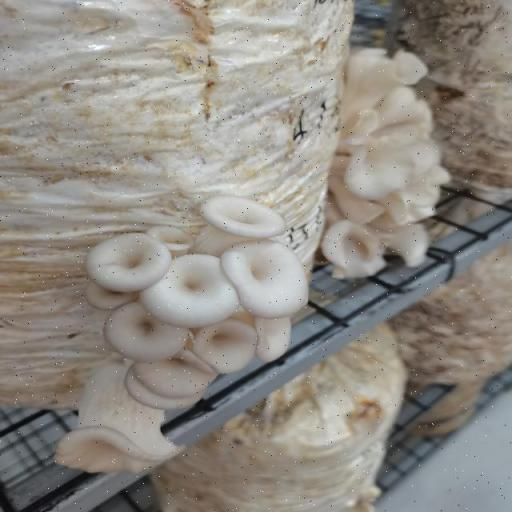White Oyster Mushroom: (79, 190, 302, 402), (321, 40, 477, 298), (43, 347, 186, 475)
